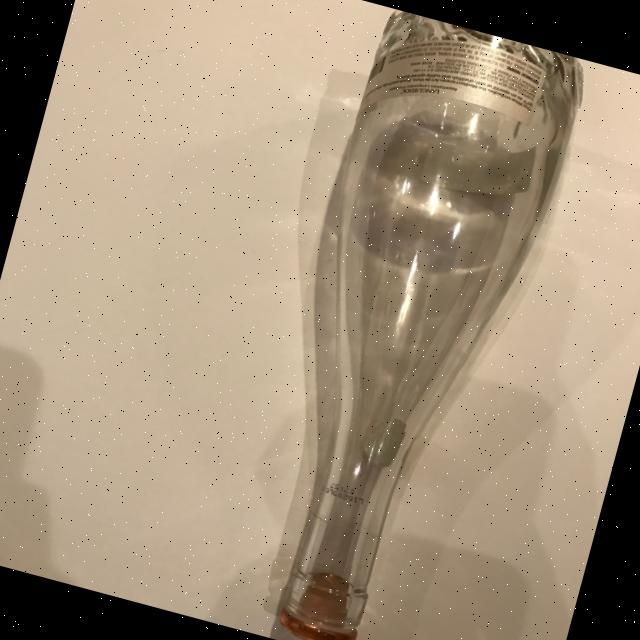glass: (202, 2, 596, 640)
